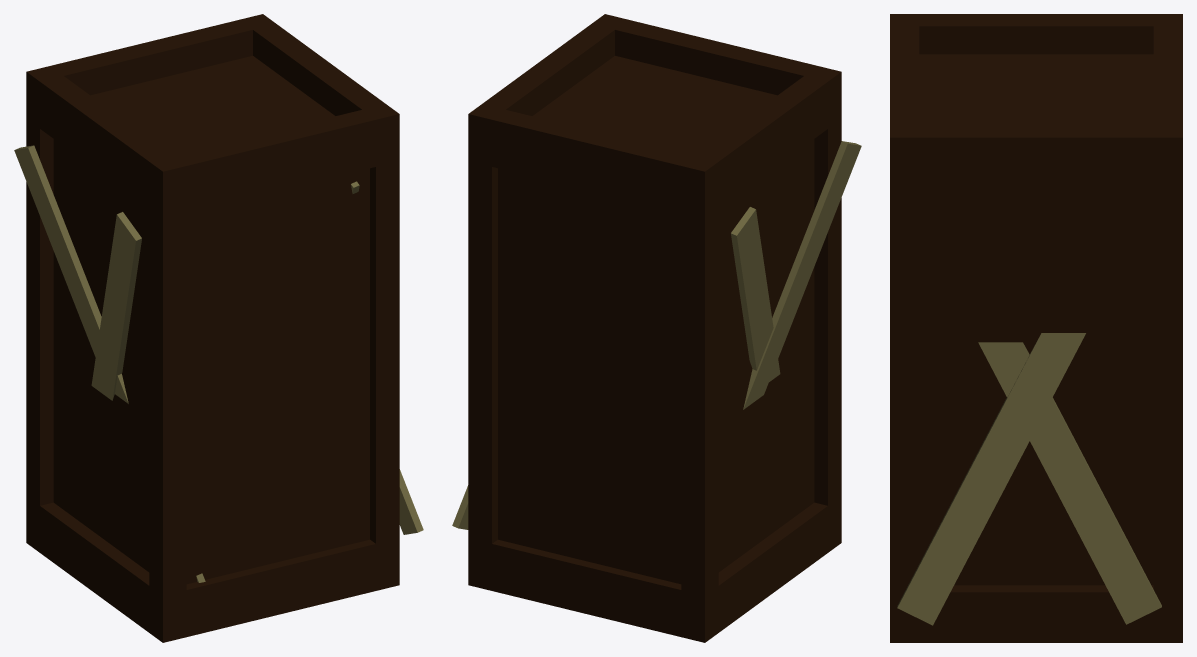
File: Crate prefab.fbx
The picture shows the model from 3 angles, left to right: view 1: azimuth 30°, elevation 25°; view 2: azimuth 150°, elevation 25°; view 3: azimuth 270°, elevation 25°; orthographic projection. The views are drawn at different scales.
Parts seen in each view (by area): view 1: Box001, Box007, Box006, Box003; view 2: Box001, Box007, Box006; view 3: Box001, Box003, Box002.
Part boxes in pixels (x1=…): Box001: x1=26, y1=14, x2=399, y2=642; Box007: x1=91, y1=212, x2=141, y2=400; Box006: x1=14, y1=145, x2=205, y2=582; Box003: x1=399, y1=469, x2=423, y2=534; Box001: x1=468, y1=14, x2=841, y2=642; Box007: x1=743, y1=141, x2=861, y2=409; Box006: x1=731, y1=207, x2=780, y2=381; Box001: x1=890, y1=14, x2=1182, y2=642; Box003: x1=897, y1=333, x2=1085, y2=625; Box002: x1=978, y1=342, x2=1161, y2=624.
Size of the model in its own units: 61.91 by 95.16 by 50.
